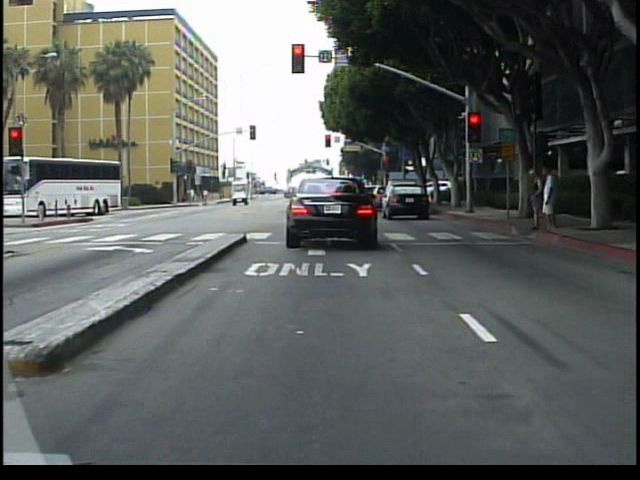person: (538, 165, 561, 237), (524, 163, 544, 233)
